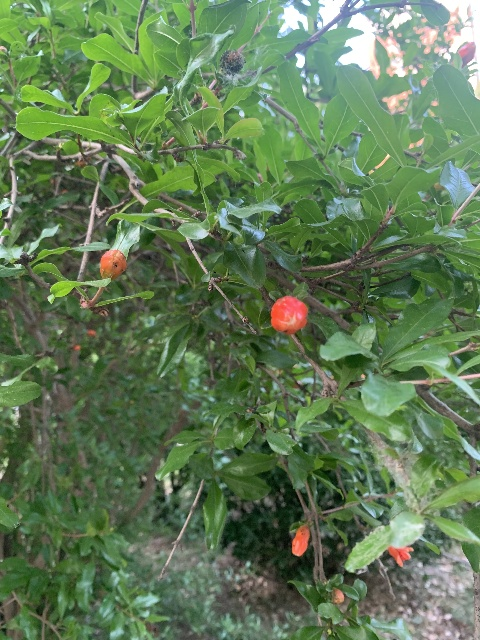bud: (270, 296, 307, 334), (99, 248, 126, 280), (451, 41, 476, 67), (291, 524, 309, 556), (331, 588, 344, 604)
flower: (388, 545, 413, 567)
